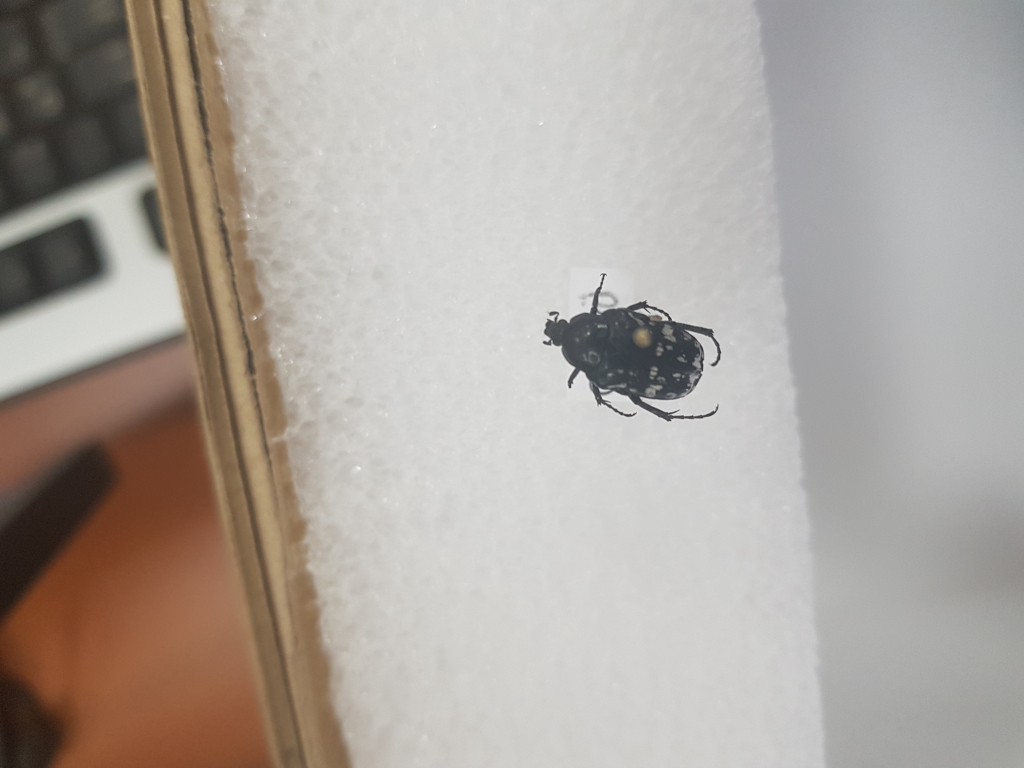Oxythyrea_albopicta: (543, 265, 722, 427)
